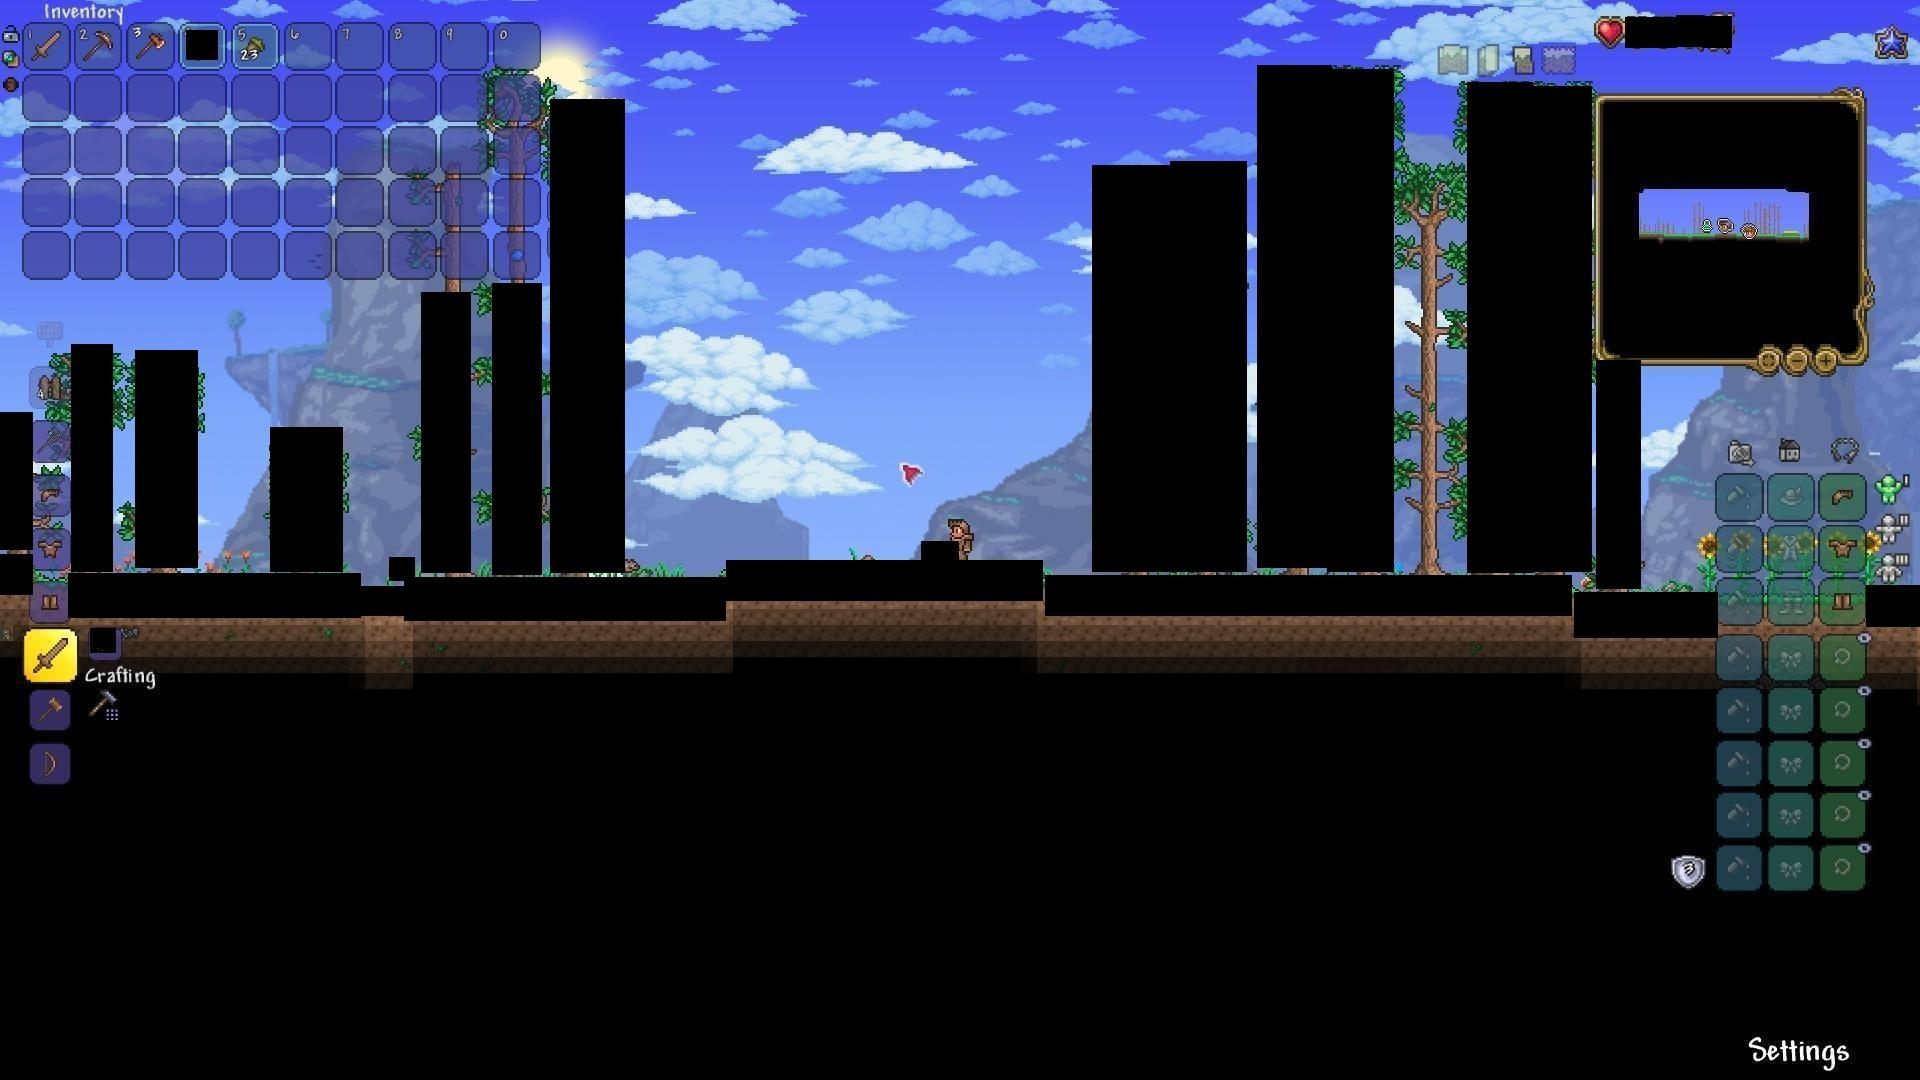breastplate: (34, 541, 62, 560), (1830, 539, 1859, 558)
heart: (1596, 15, 1629, 46)
helmet: (1826, 483, 1858, 510), (37, 480, 69, 508)
legs: (37, 588, 62, 616), (1830, 588, 1855, 615)
tree: (1393, 152, 1462, 570)
